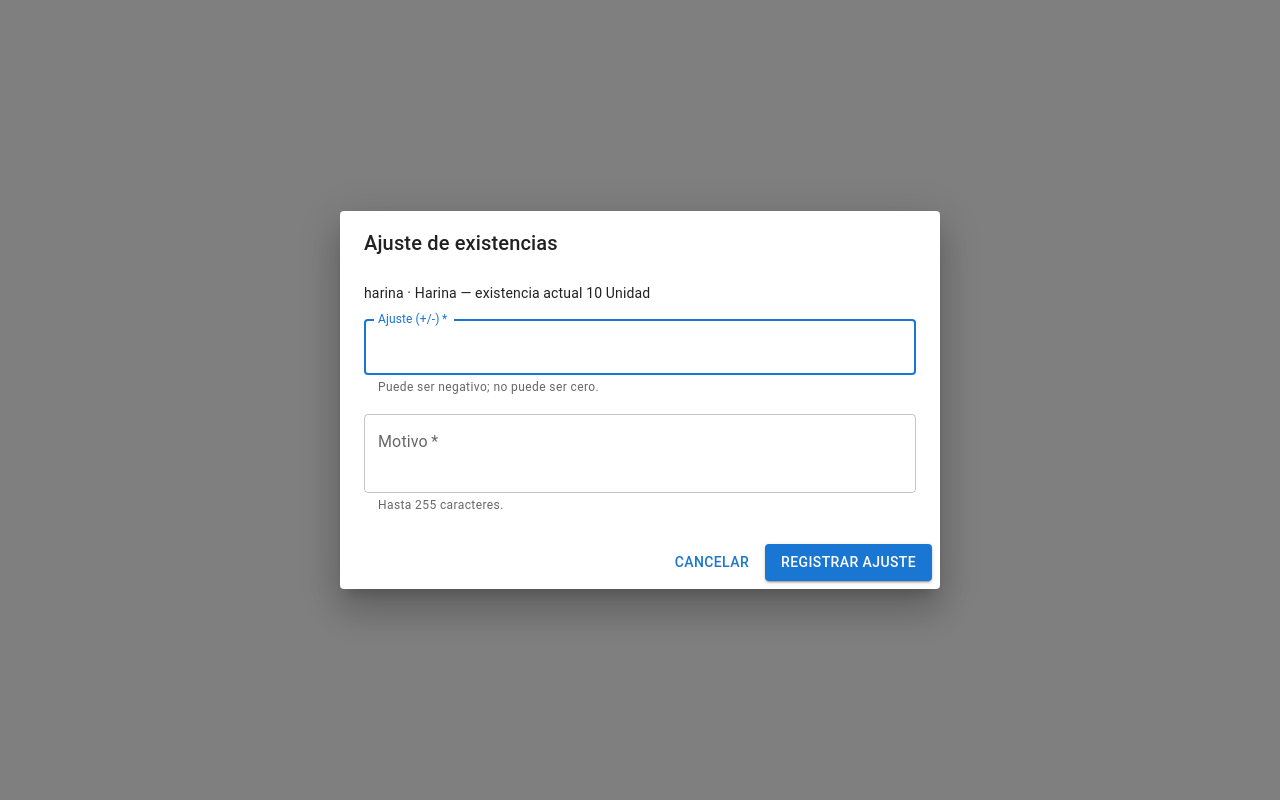
Test case: StockMutationDialog › surfaces a concurrent modification and refreshes without closing
The image size is (1280, 800).
Type "-2.5" into the field labelled "Ajuste (+/-) *". click: (640, 347)
box: [364,319,916,375]
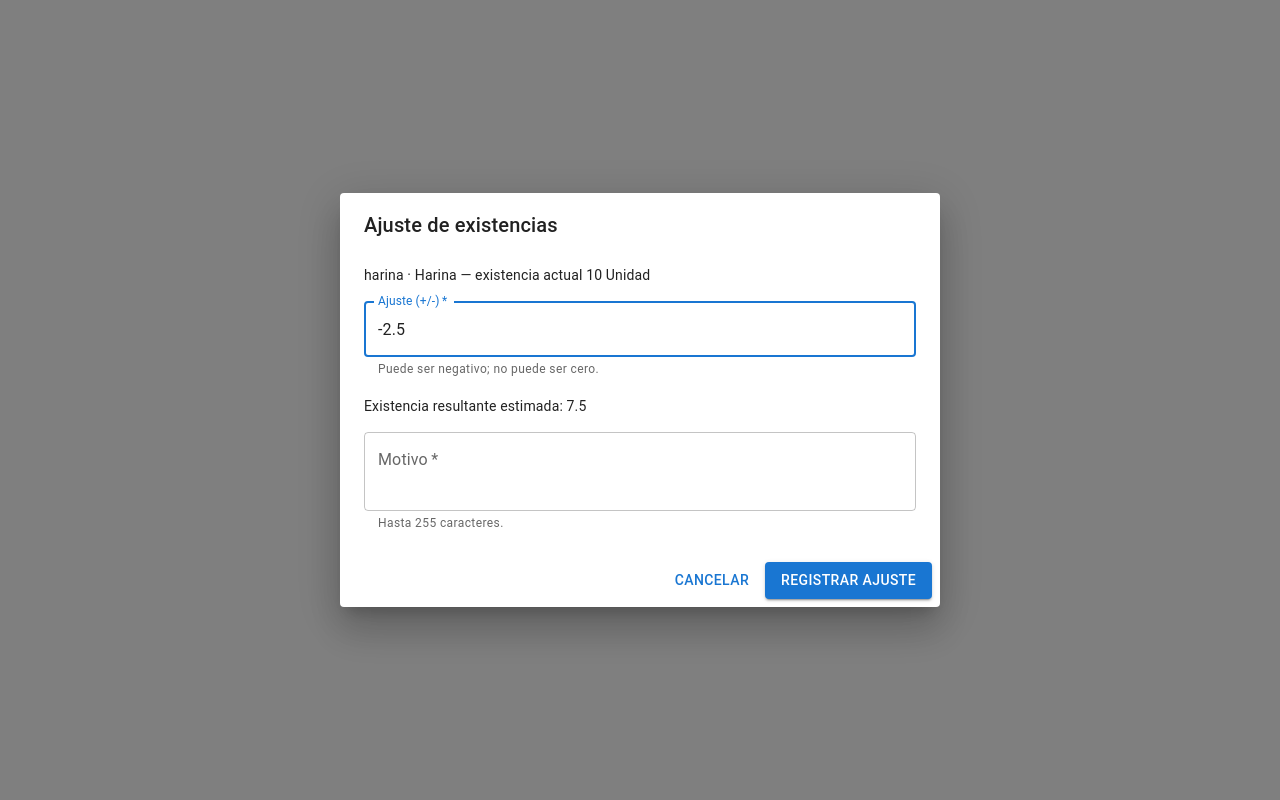
Type "Merma" into the text box labelled "Motivo *". click: (640, 472)
box: [378,449,902,495]
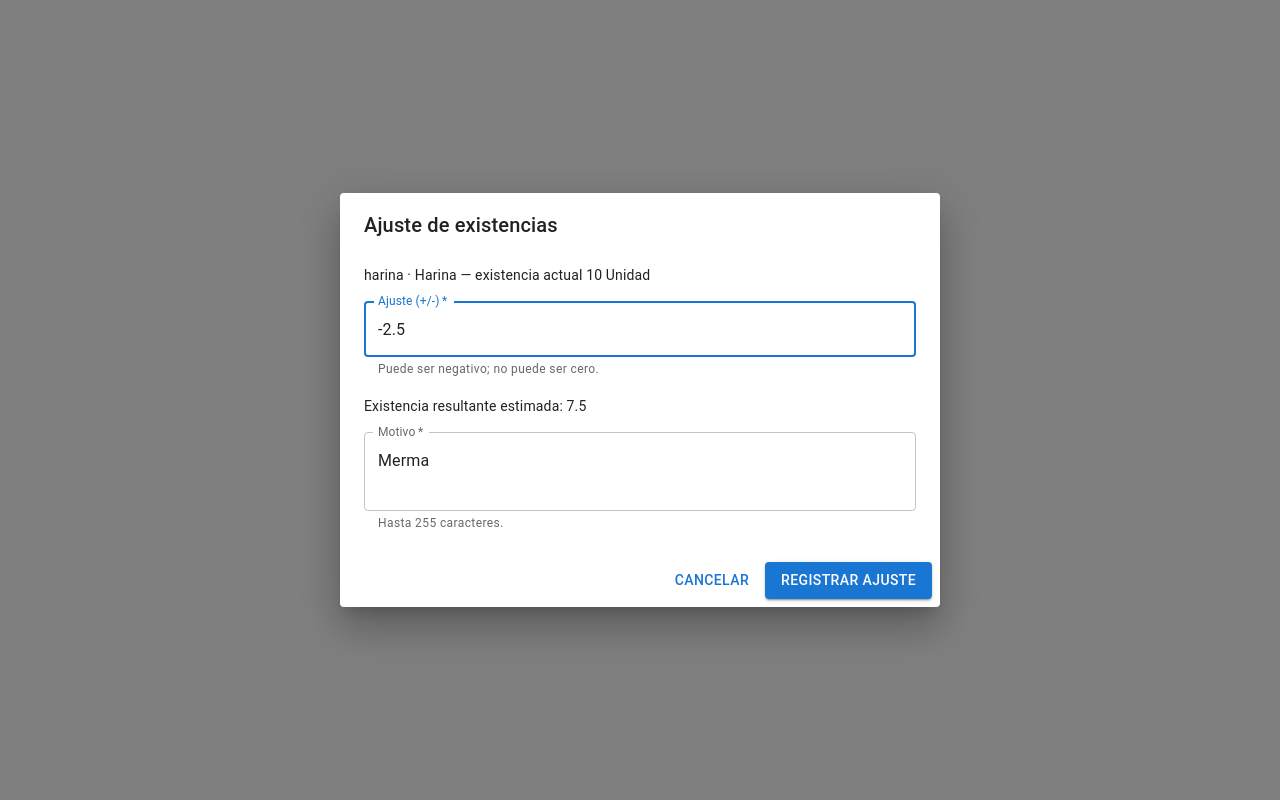
Click the button "Registrar ajuste". click: (849, 580)
box: [765,562,932,599]
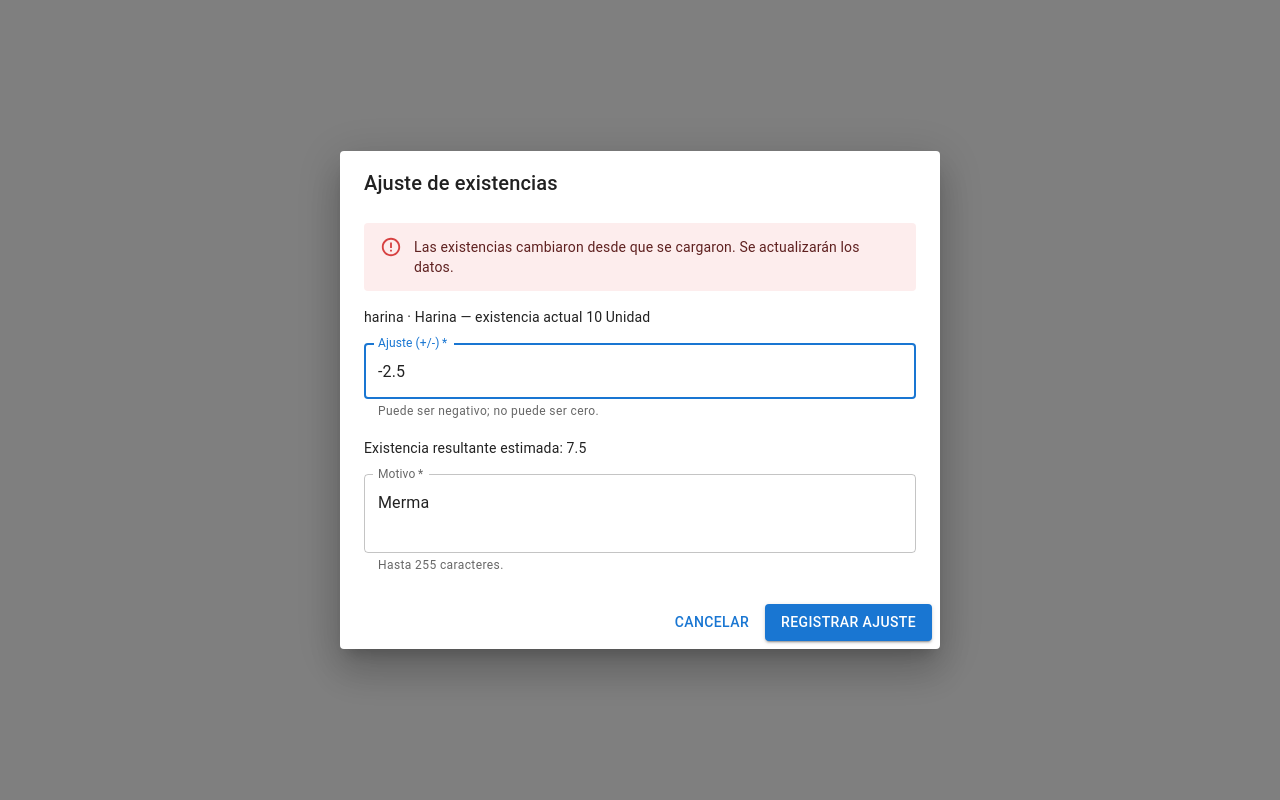
Now the text "Las existencias cambiaron desde que se cargaron. Se actualizarán los datos." is shown, box [414,229,900,285]
